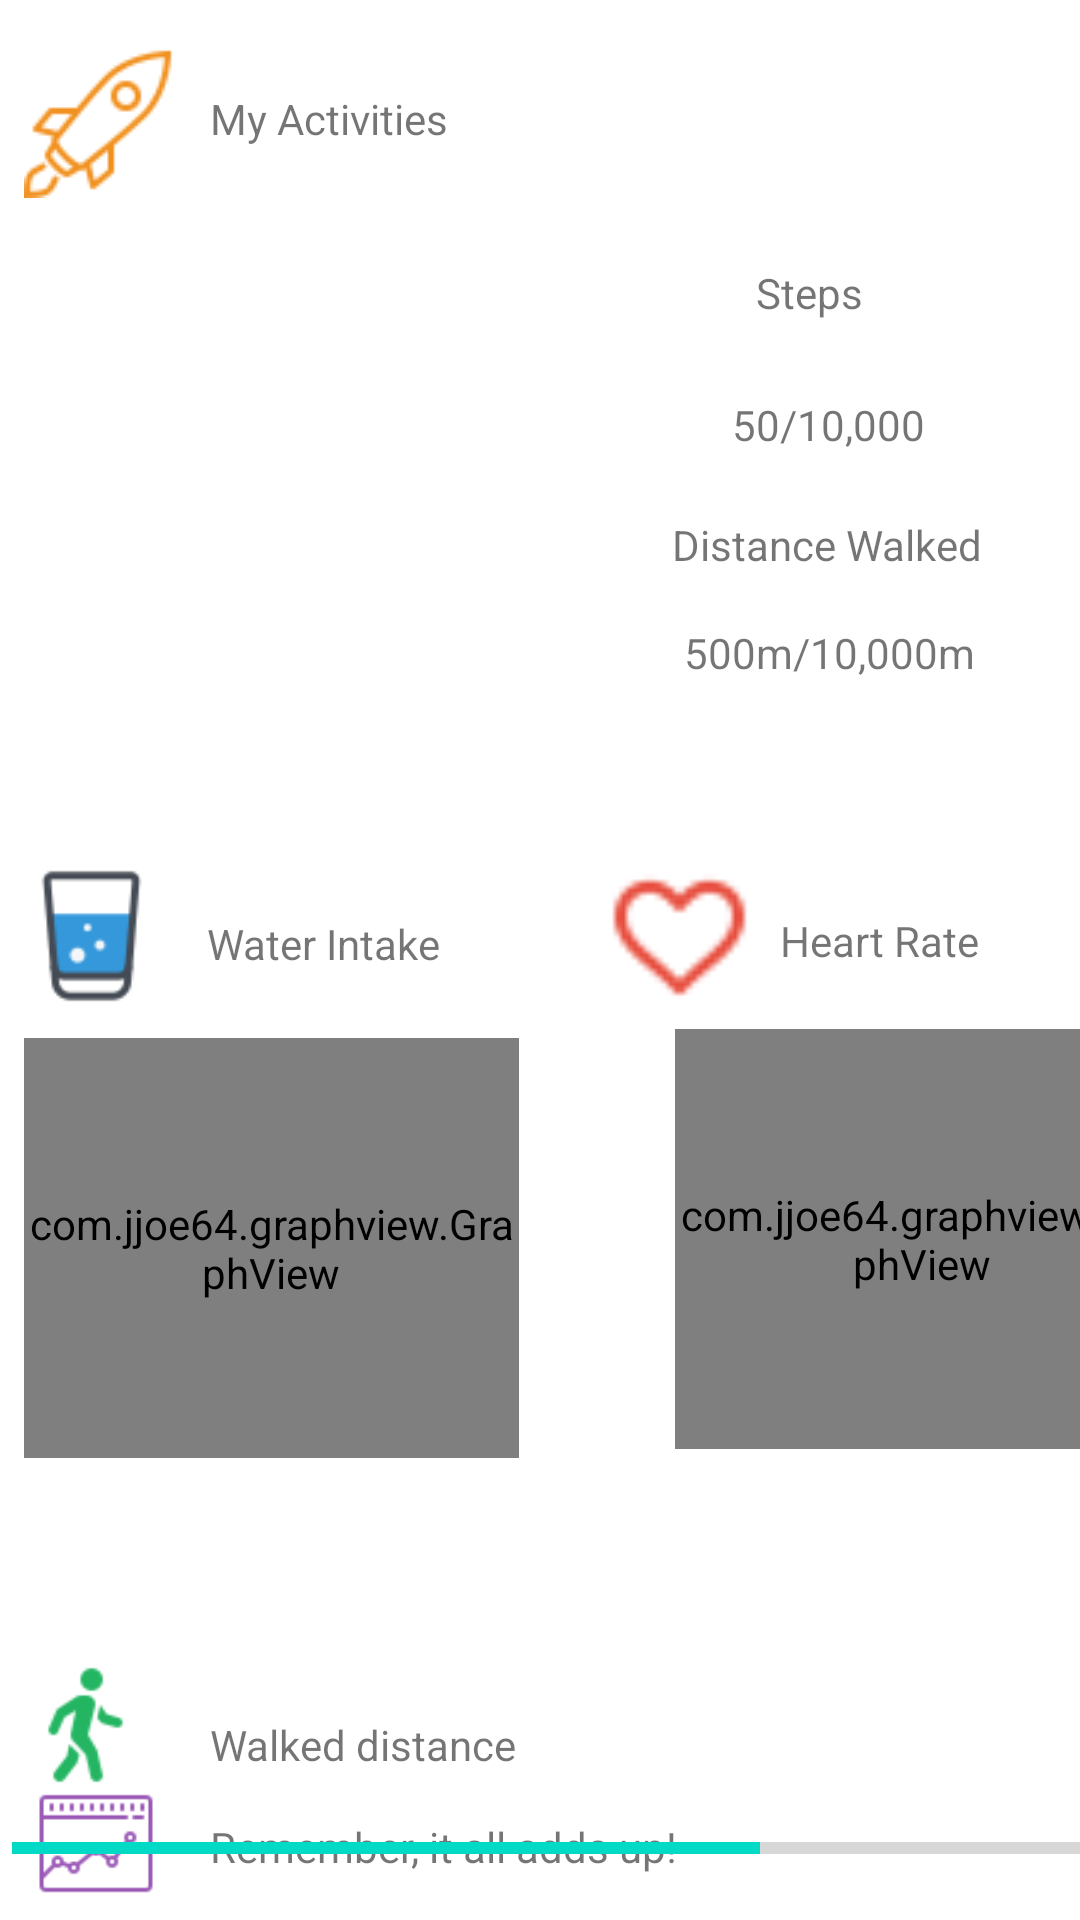

Screen size 1080px x 1920px. Icon name, then its box in pixels as (x1, y1, x2, y2):
rocket: (24, 50, 172, 198)
walking: (48, 1667, 123, 1783)
water glass: (42, 871, 141, 1001)
